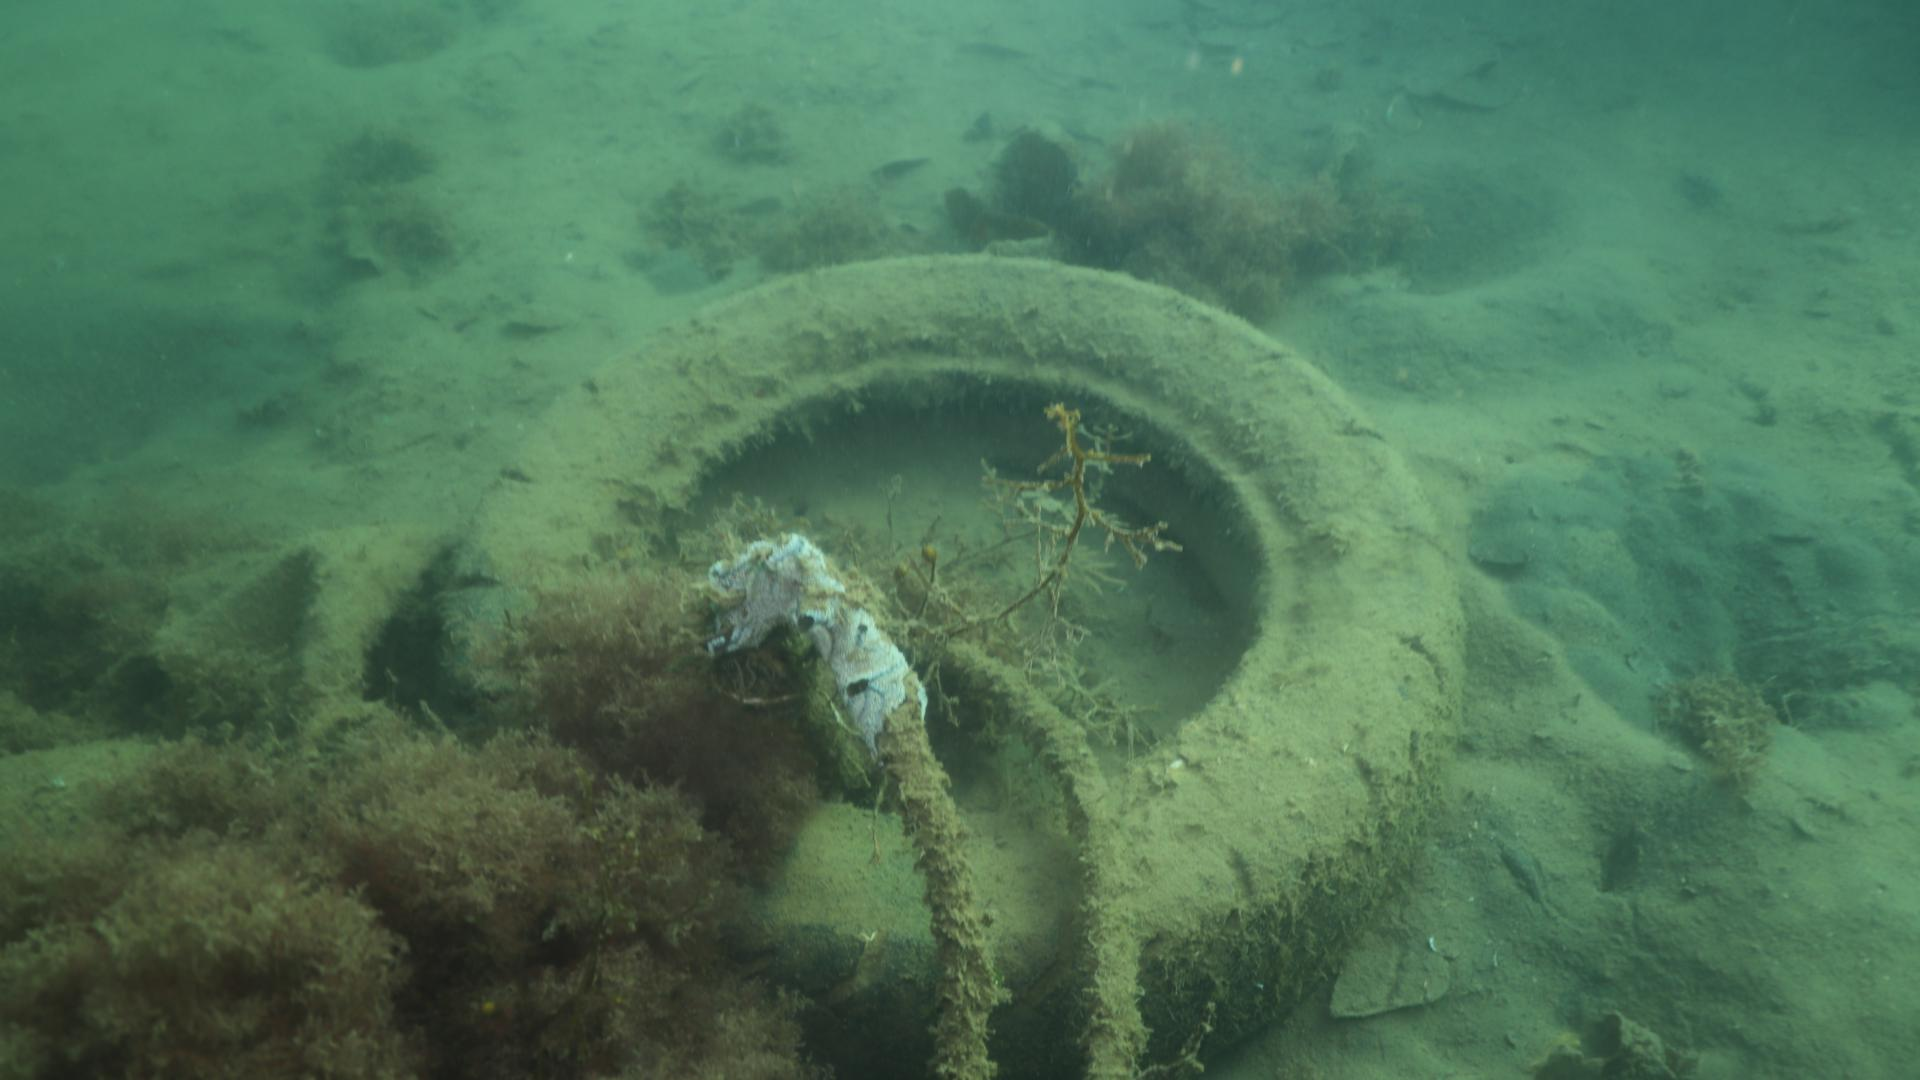bundle of ropes: (874, 636, 1143, 1080)
tire: (440, 249, 1464, 1080)
